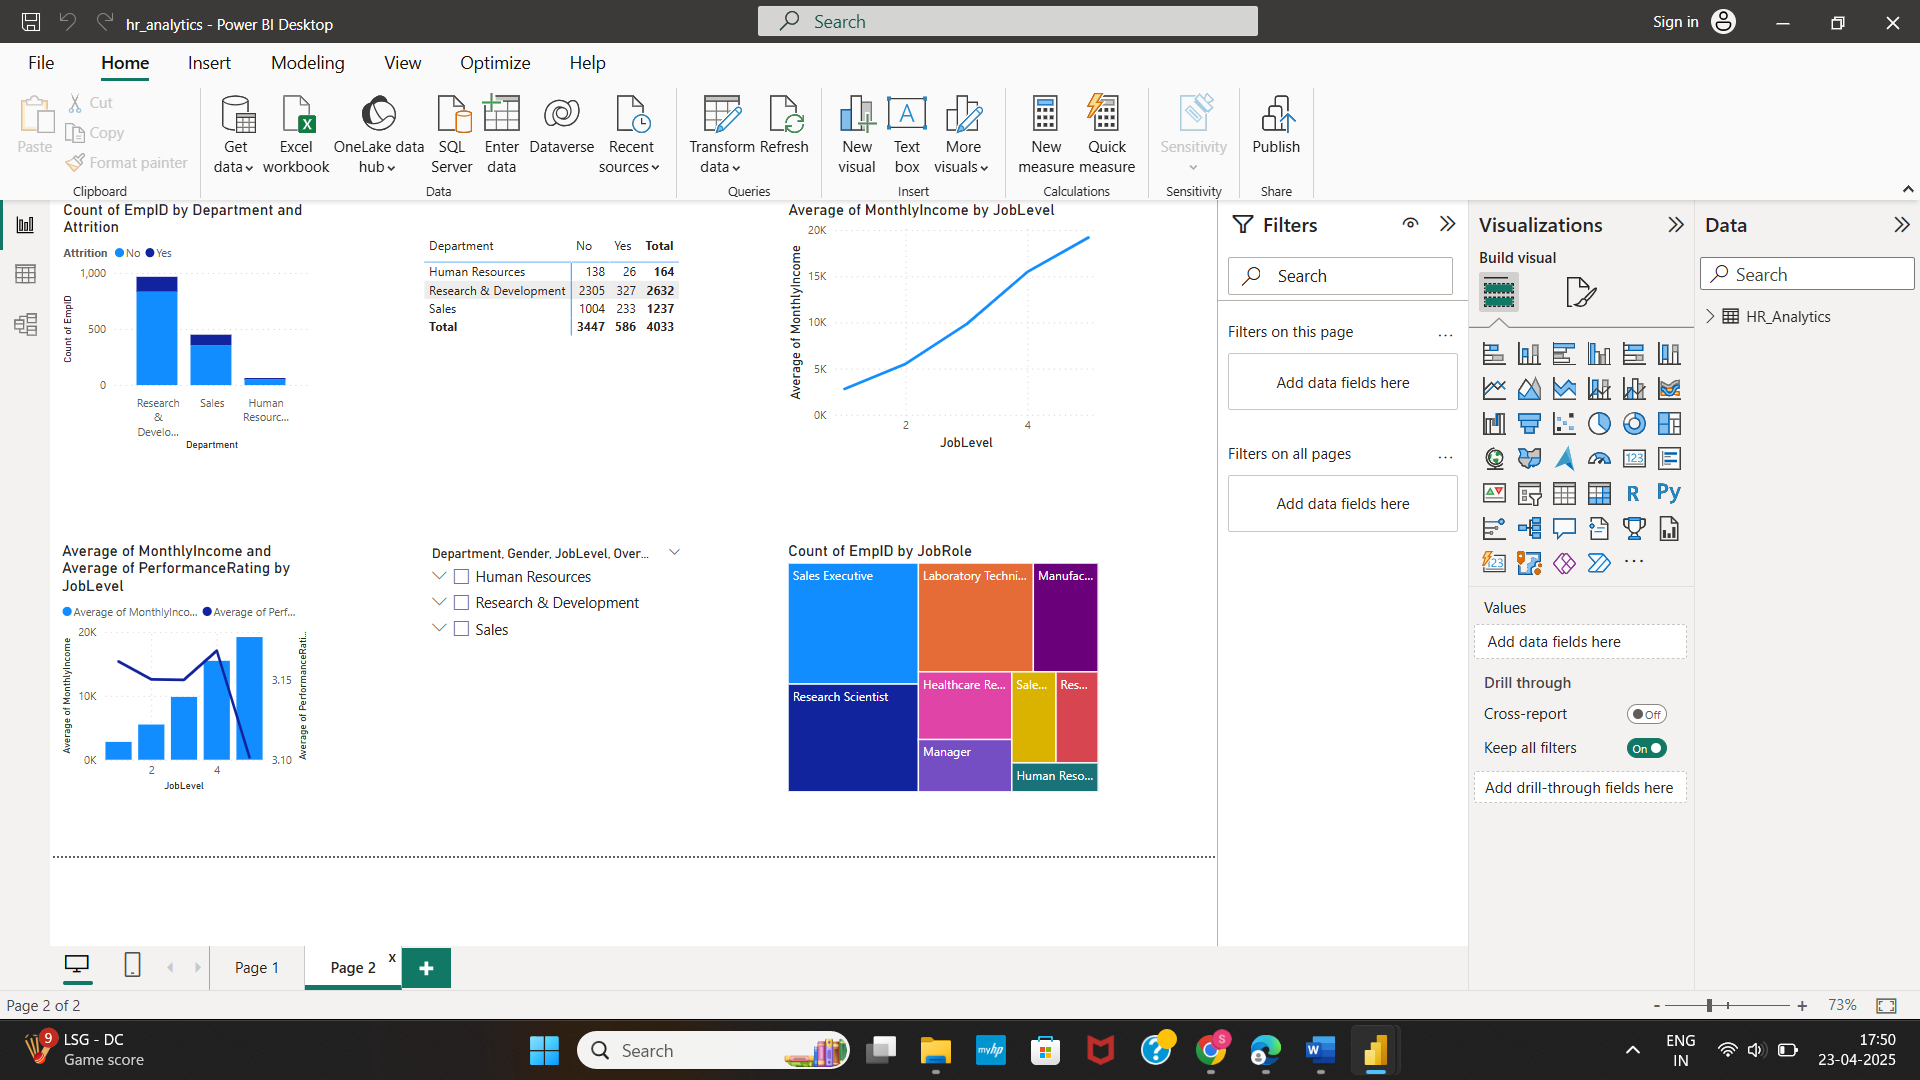

This screenshot's page, from the dashboard's own definition file:
{"tool":"powerbi","page":{"name":"Page 2","canvas":[1280,720],"ordinal":1},"visuals":[{"type":"columnChart","fields":{"Category":["HR_Analytics.Department"],"Y":["CountNonNull(HR_Analytics.EmpID)"],"Series":["HR_Analytics.Attrition"]},"box":[10,0,280,280],"z":0},{"type":"lineClusteredColumnComboChart","fields":{"Y":["Avg(HR_Analytics.MonthlyIncome)"],"Category":["HR_Analytics.JobLevel"],"Y2":["Avg(HR_Analytics.PerformanceRating)"]},"box":[8.2,374.3,281.1,279.7],"z":1000},{"type":"pivotTable","fields":{"Rows":["HR_Analytics.Department"],"Columns":["HR_Analytics.Attrition"],"Values":["Sum(HR_Analytics.JobSatisfaction)"]},"box":[405.8,34.3,297.5,131.6],"z":2000},{"type":"slicer","fields":{"Values":["HR_Analytics.Department","HR_Analytics.Gender","HR_Analytics.JobLevel","HR_Analytics.OverTime"]},"box":[406,374,298,280],"z":2001},{"type":"lineChart","fields":{"Category":["HR_Analytics.JobLevel"],"Y":["Avg(HR_Analytics.MonthlyIncome)"]},"box":[804.8,0,349.6,279.7],"z":2002},{"type":"treemap","fields":{"Group":["HR_Analytics.JobRole"],"Values":["CountNonNull(HR_Analytics.EmpID)"]},"box":[805,374,350,280],"z":2003}]}

Visuals, with their boxes on the page's 1280x720 design canvas (x1, y1, x2, y2). These are canvas units, not pixel positions in the 1920x1080 screenshot, which may show the page scaled, cropped or inside an application window:
columnChart - HR_Analytics.Department x CountNonNull(HR_Analytics.EmpID): crop(10, 0, 290, 280)
lineClusteredColumnComboChart - Avg(HR_Analytics.MonthlyIncome) x HR_Analytics.JobLevel: crop(8, 374, 289, 654)
pivotTable - HR_Analytics.Department x HR_Analytics.Attrition: crop(406, 34, 703, 166)
slicer - HR_Analytics.Department x HR_Analytics.Gender: crop(406, 374, 704, 654)
lineChart - HR_Analytics.JobLevel x Avg(HR_Analytics.MonthlyIncome): crop(805, 0, 1154, 280)
treemap - HR_Analytics.JobRole x CountNonNull(HR_Analytics.EmpID): crop(805, 374, 1155, 654)
